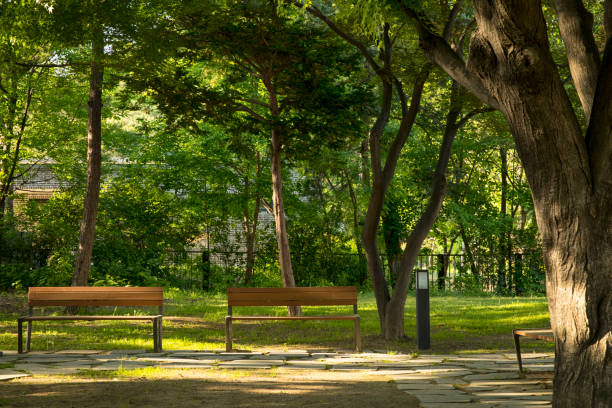bench: (14, 283, 167, 355), (224, 284, 363, 354)
bollard: (413, 267, 435, 352)
